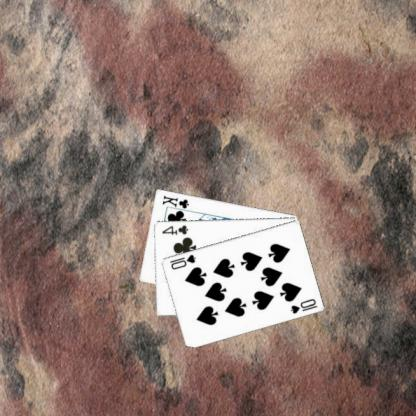10S: (169, 251, 199, 271), (289, 296, 320, 315)
4C: (161, 222, 191, 236)
KC: (162, 192, 193, 213)
